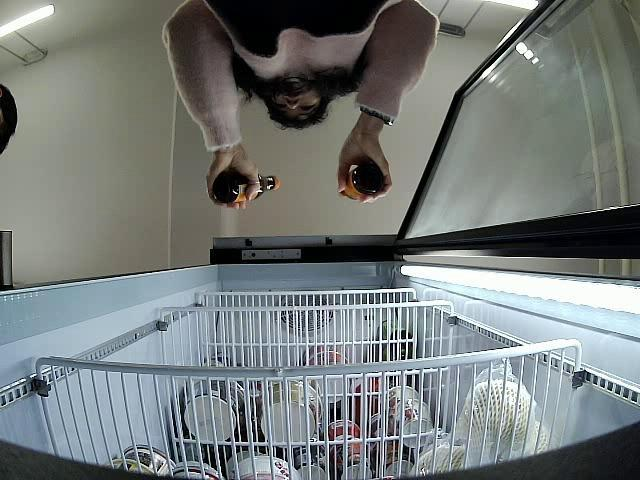17_vita500: (212, 170, 282, 207), (336, 163, 386, 202)
